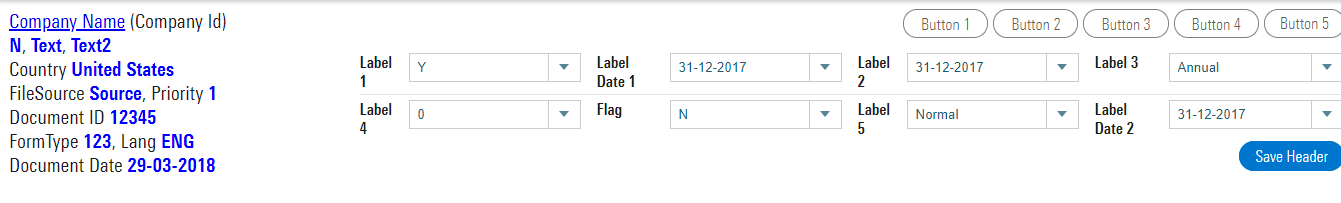div_rect: (1169, 50, 1316, 86), (1166, 97, 1316, 132), (667, 50, 812, 86), (905, 97, 1050, 133), (407, 97, 552, 132), (904, 51, 1050, 85), (405, 50, 553, 83), (669, 98, 812, 132), (1042, 97, 1083, 132), (545, 49, 584, 85), (546, 97, 584, 133), (808, 98, 845, 133), (1043, 51, 1080, 86), (808, 51, 846, 85), (1306, 50, 1341, 85), (1308, 96, 1341, 132)
div_round: (1238, 138, 1340, 172), (900, 7, 990, 41), (1171, 7, 1260, 41), (993, 7, 1080, 41), (1084, 8, 1168, 40), (1264, 8, 1341, 41)
text: (8, 10, 125, 34), (8, 156, 124, 176), (129, 10, 228, 33), (71, 61, 176, 81), (7, 35, 116, 54), (8, 107, 106, 127), (127, 157, 218, 177), (8, 83, 85, 104), (8, 131, 80, 152), (8, 60, 66, 82), (148, 83, 205, 105), (1255, 149, 1330, 165), (90, 82, 143, 103), (678, 59, 747, 75), (1179, 106, 1245, 122), (1009, 15, 1064, 34), (109, 107, 160, 126), (914, 60, 983, 74), (919, 15, 971, 33), (1189, 15, 1244, 32), (1100, 15, 1153, 32), (1094, 54, 1140, 73), (1279, 15, 1330, 32), (119, 132, 158, 153), (596, 73, 637, 91), (162, 131, 197, 151), (1095, 121, 1136, 138), (915, 107, 961, 122), (1176, 60, 1222, 74), (358, 53, 394, 70), (596, 53, 632, 70), (1093, 100, 1127, 117), (856, 56, 892, 72), (84, 132, 114, 151), (596, 100, 623, 121), (358, 100, 393, 116), (856, 101, 890, 117), (208, 83, 219, 105), (417, 59, 429, 76), (359, 120, 370, 138), (856, 120, 867, 138), (677, 107, 689, 123), (856, 73, 867, 90), (416, 106, 425, 122), (359, 74, 368, 89)
triangle_down: (1319, 61, 1335, 71), (819, 62, 832, 73), (1319, 108, 1334, 117), (558, 108, 571, 118), (556, 62, 571, 70), (1056, 107, 1068, 117), (819, 109, 832, 118), (1055, 61, 1067, 70)
